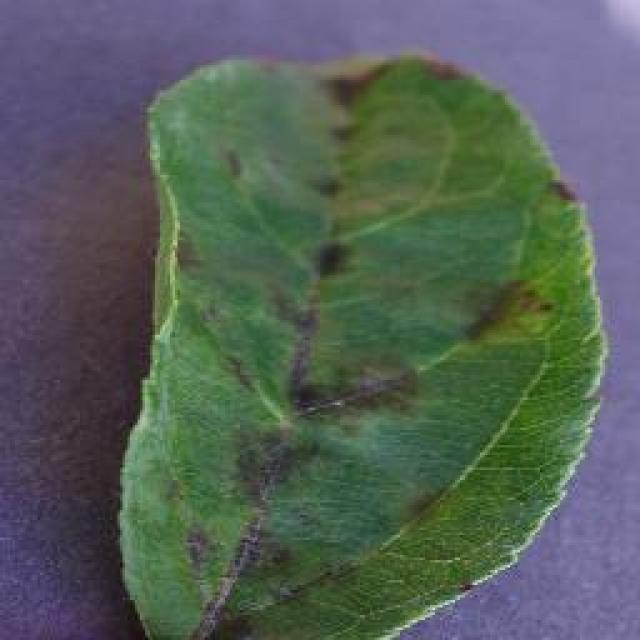apple scab disease: (112, 48, 608, 638)
